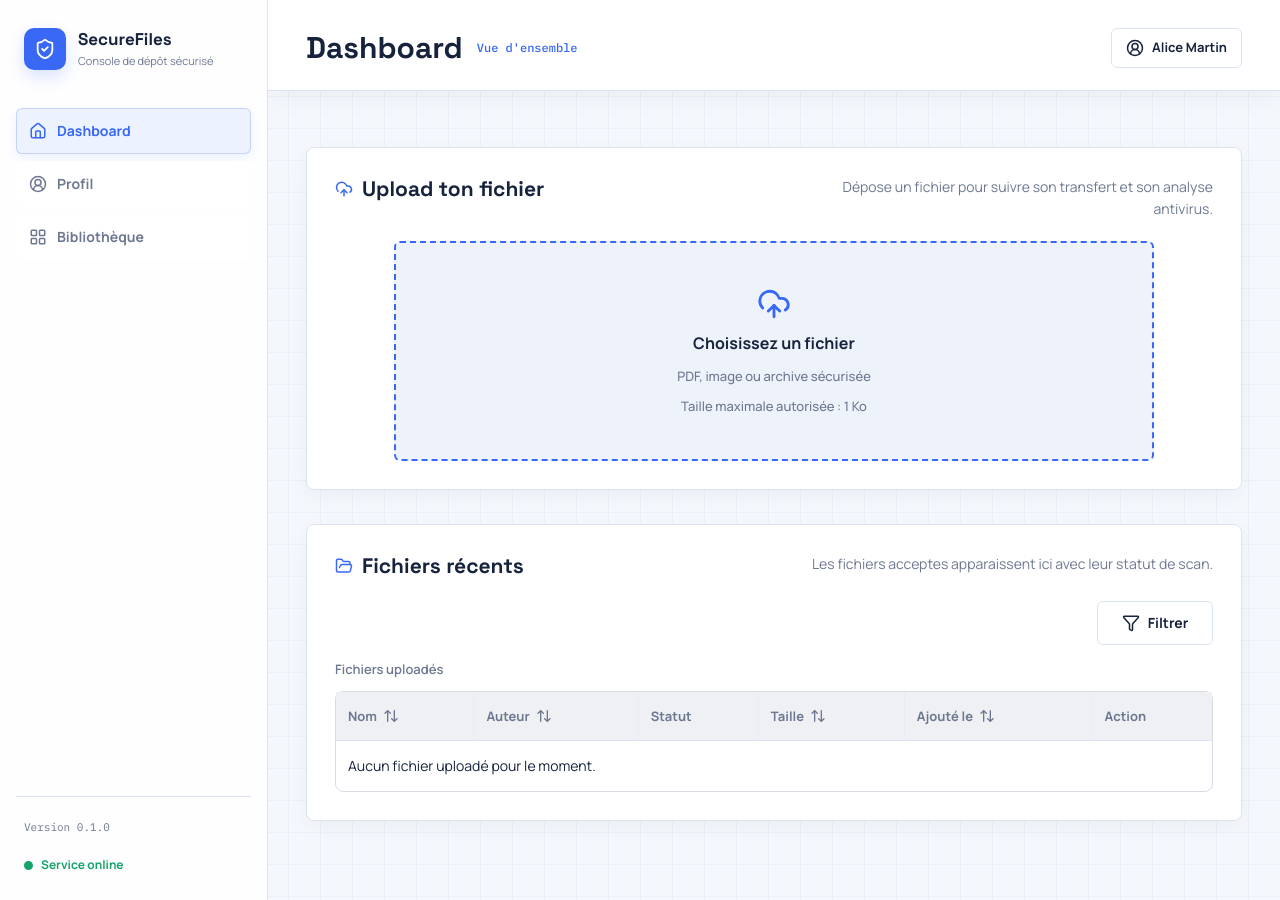
Test case: App › opens the shared components library on its dedicated route
Click the link "Bibliothèque" at (134, 237), box [16,214,251,260]
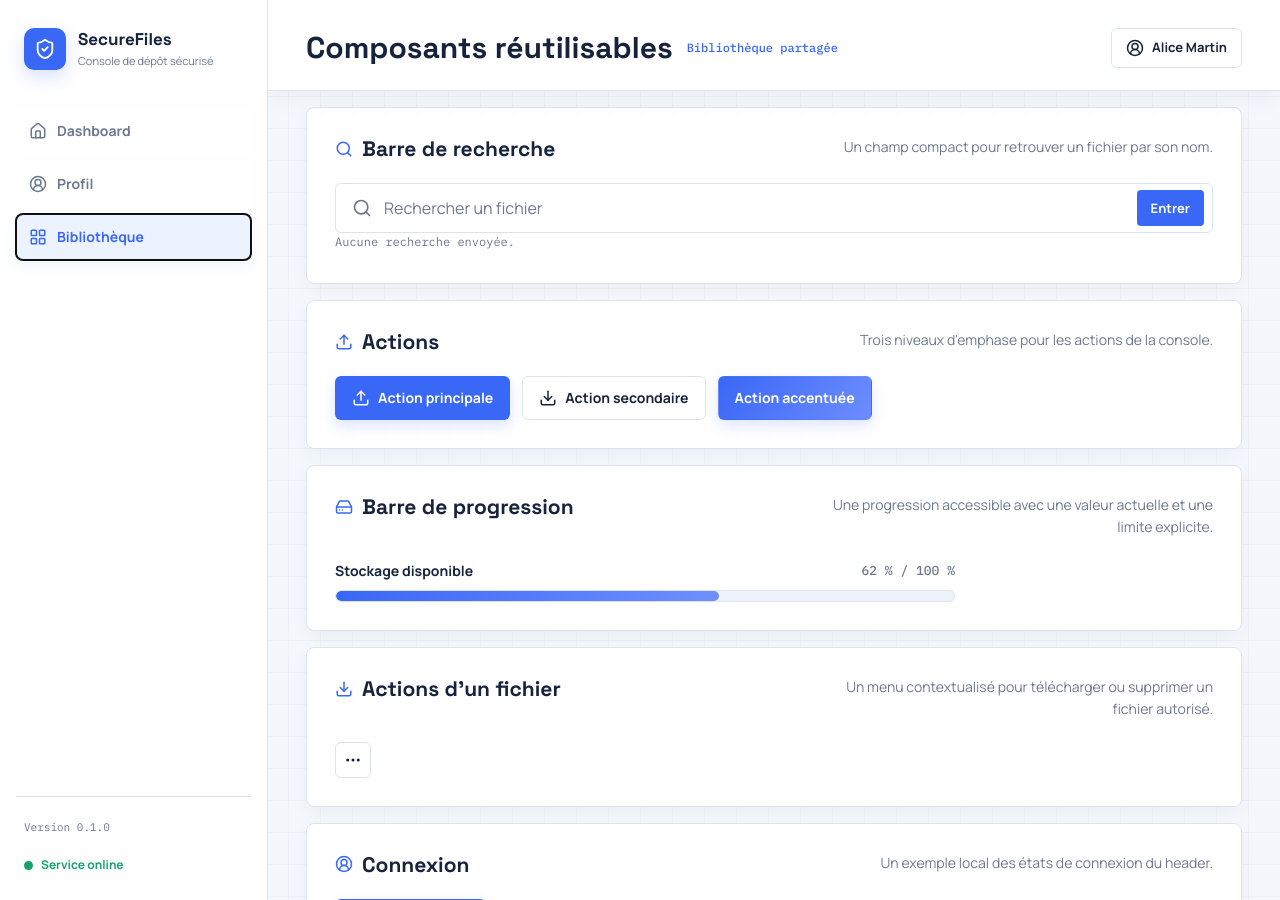
Expected: the heading "Composants réutilisables" is shown, [306,31,673,65]
